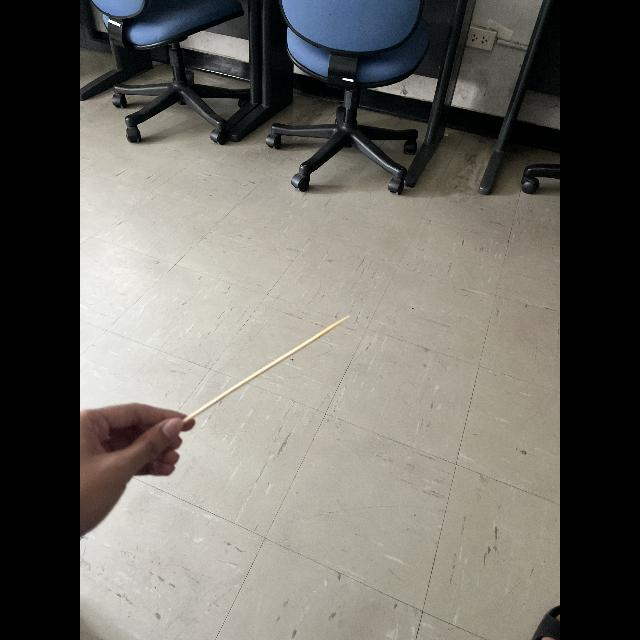stick: (170, 304, 368, 446)
